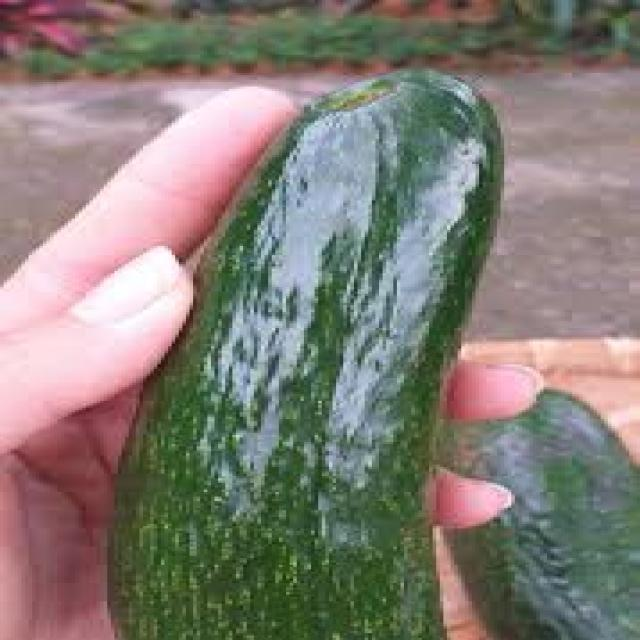Bo: (100, 36, 546, 638)
